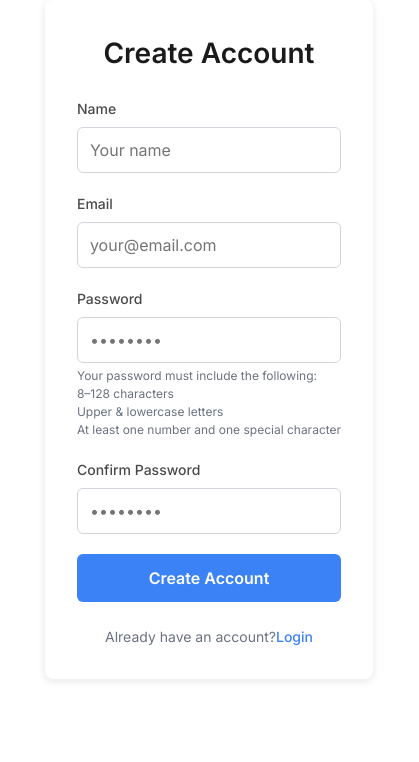
RegisterForm - Validation Logic › should display error when password is less than 8 characters
This screenshot has width=419, height=762.
Type "Test User" into the field labelled "Name" at (209, 150), box [77,127,341,173]
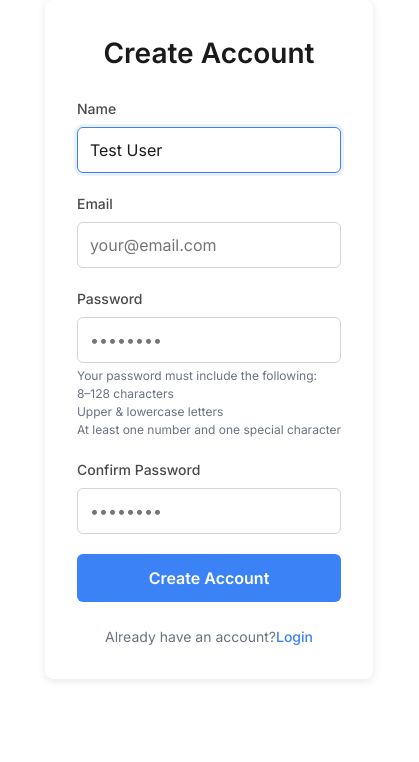
Type "test@example.com" into the field labelled "Email" at (209, 245), box [77,222,341,268]
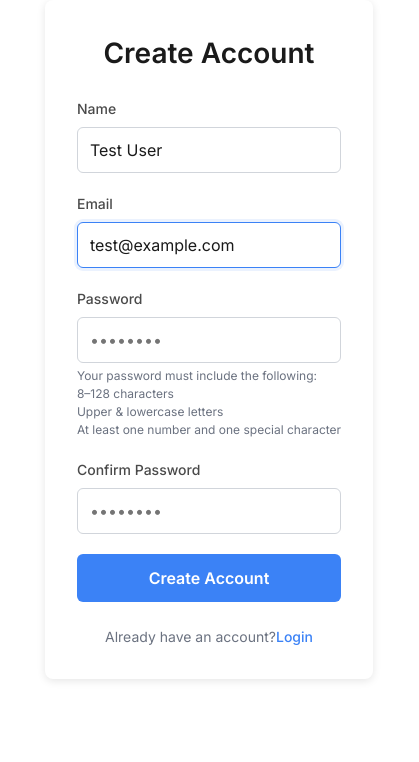
Type "Pass1!" into the password field labelled "Password" at (209, 340), box [77,317,341,363]
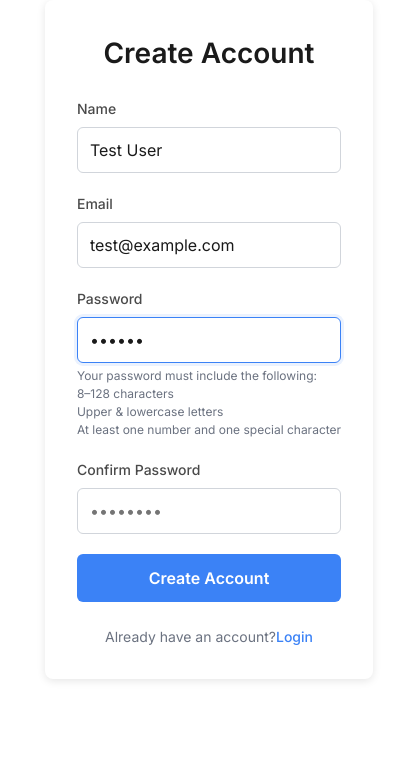
Type "Pass1!" into the password field labelled "Confirm Password" at (209, 511), box [77,488,341,534]
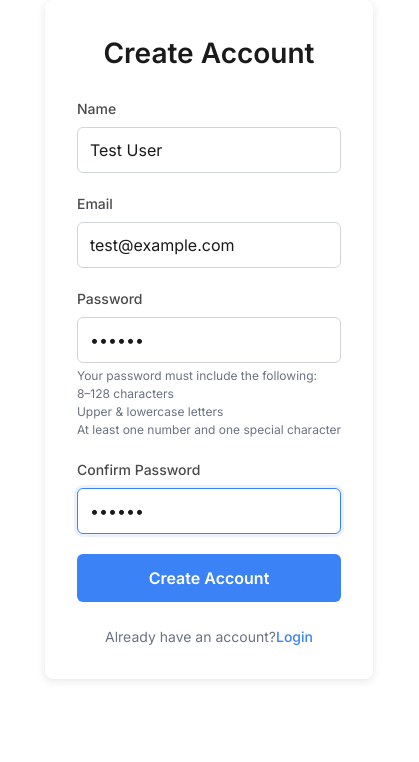
Click the button "Create Account" at (209, 578), box [77,554,341,602]
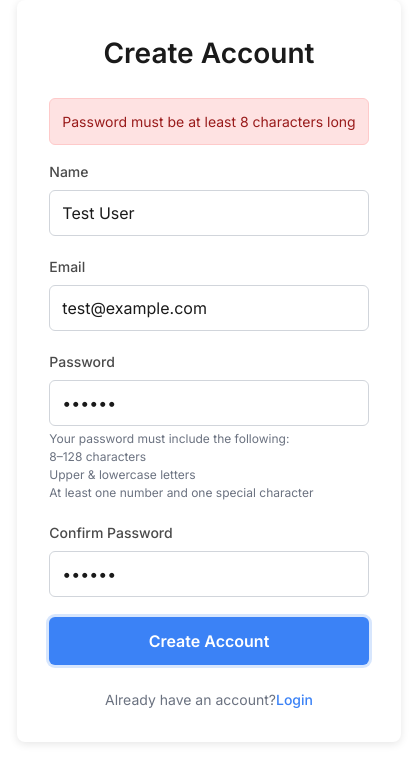
Now the message reads "Password must be at least 8 characters long", box [62,113,356,130]
